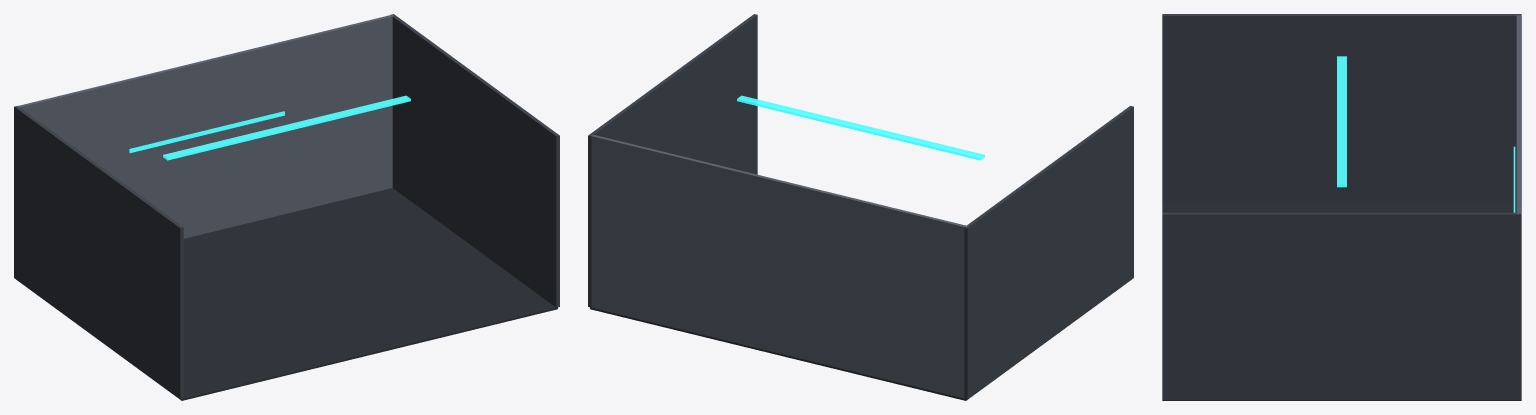
File: boardroom_room.glb
The picture shows the model from 3 angles, left to right: view 1: azimuth 30°, elevation 25°; view 2: azimuth 150°, elevation 25°; view 3: azimuth 270°, elevation 25°; orthographic projection. The views are drawn at different scales.
Visible parts, largest first — view 1: back_wall, floor, left_wall, right_wall, ceiling_light, rear_light; view 2: back_wall, left_wall, right_wall, ceiling_light, floor; view 3: right_wall, left_wall, floor, ceiling_light, back_wall.
Boxes of the visible parts, box(x1,y1,x2,y2) form: back_wall: box(16, 14, 393, 238); floor: box(17, 188, 557, 400); left_wall: box(14, 106, 183, 399); right_wall: box(390, 14, 559, 307); ceiling_light: box(163, 95, 410, 160); rear_light: box(129, 111, 284, 153); back_wall: box(591, 134, 967, 398); left_wall: box(964, 106, 1133, 399); right_wall: box(588, 14, 757, 307); ceiling_light: box(737, 95, 984, 160); floor: box(590, 280, 1130, 400); right_wall: box(1162, 212, 1521, 399); left_wall: box(1162, 14, 1521, 201); floor: box(1162, 201, 1521, 400); ceiling_light: box(1337, 56, 1346, 187); back_wall: box(1516, 15, 1520, 213).
Size of the model in its own units: 8.58 by 3.74 by 6.5.
